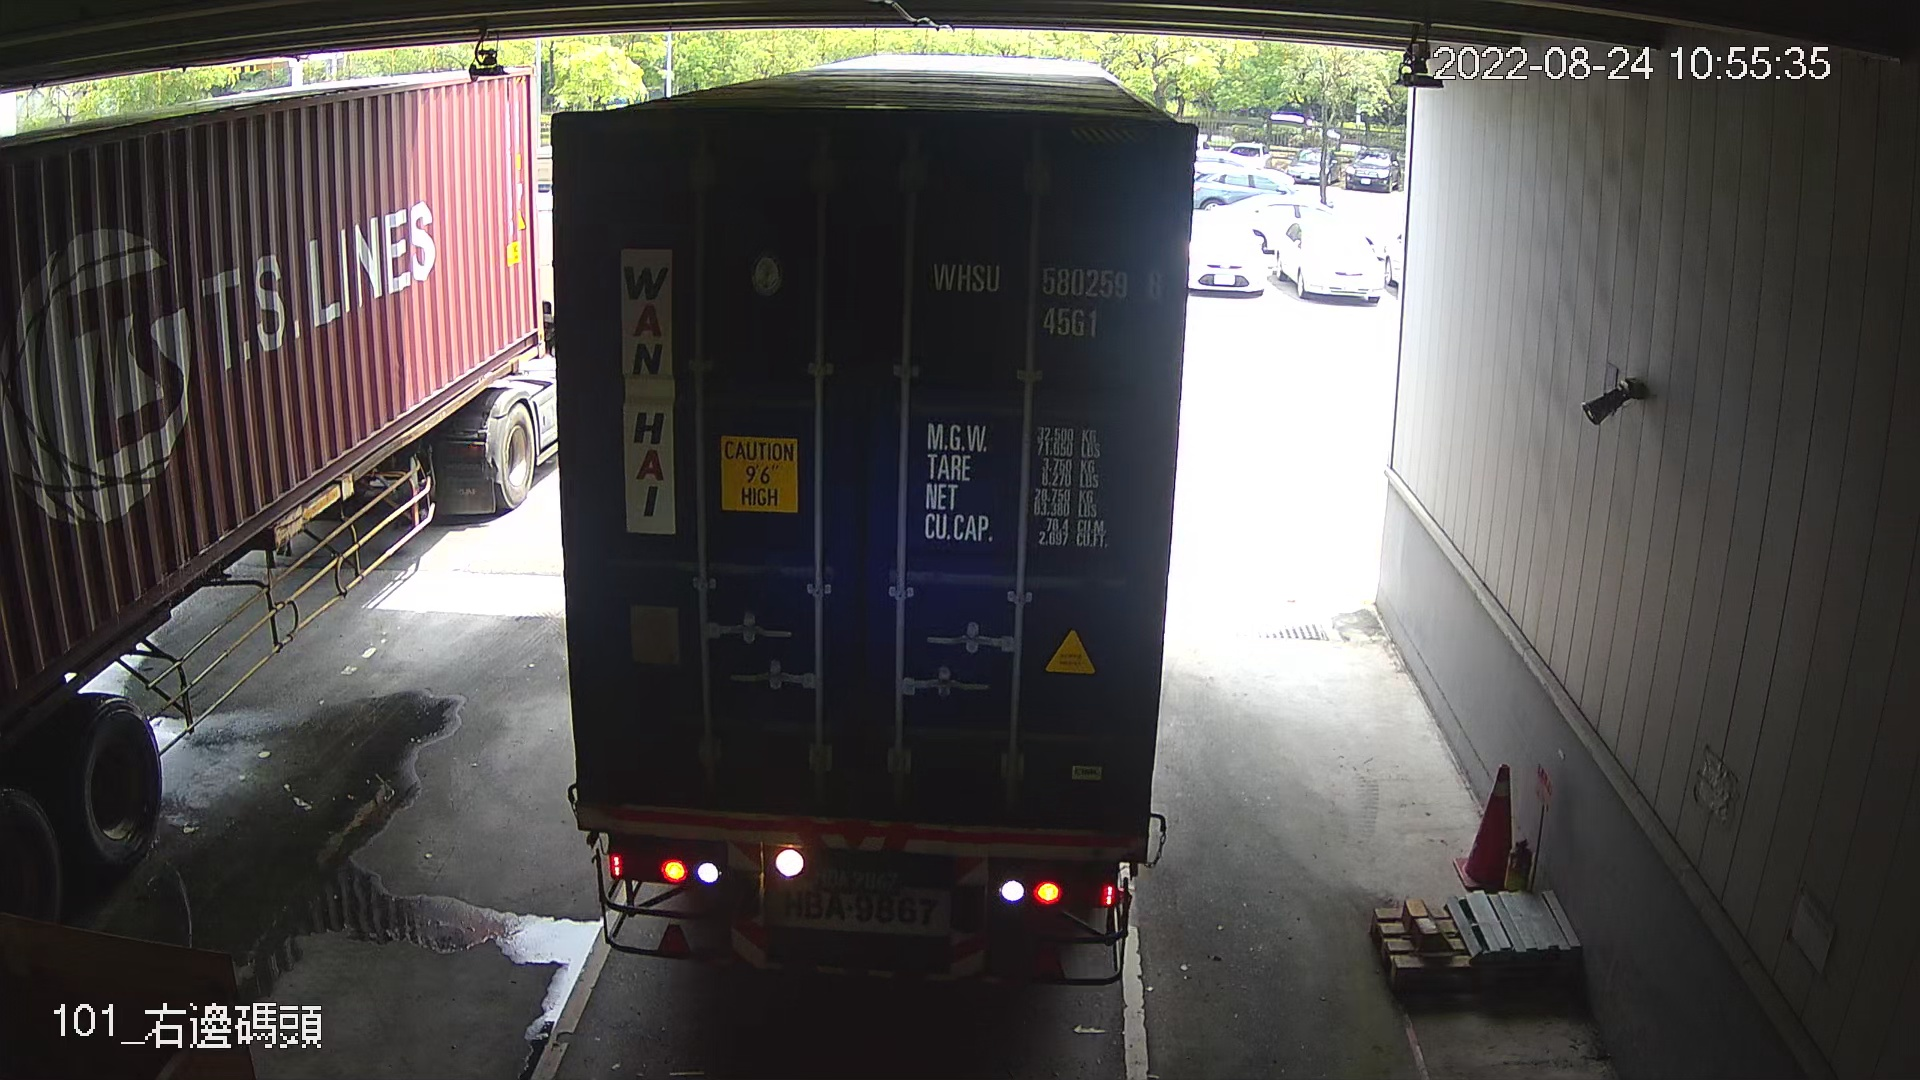container: (919, 241, 1174, 348)
